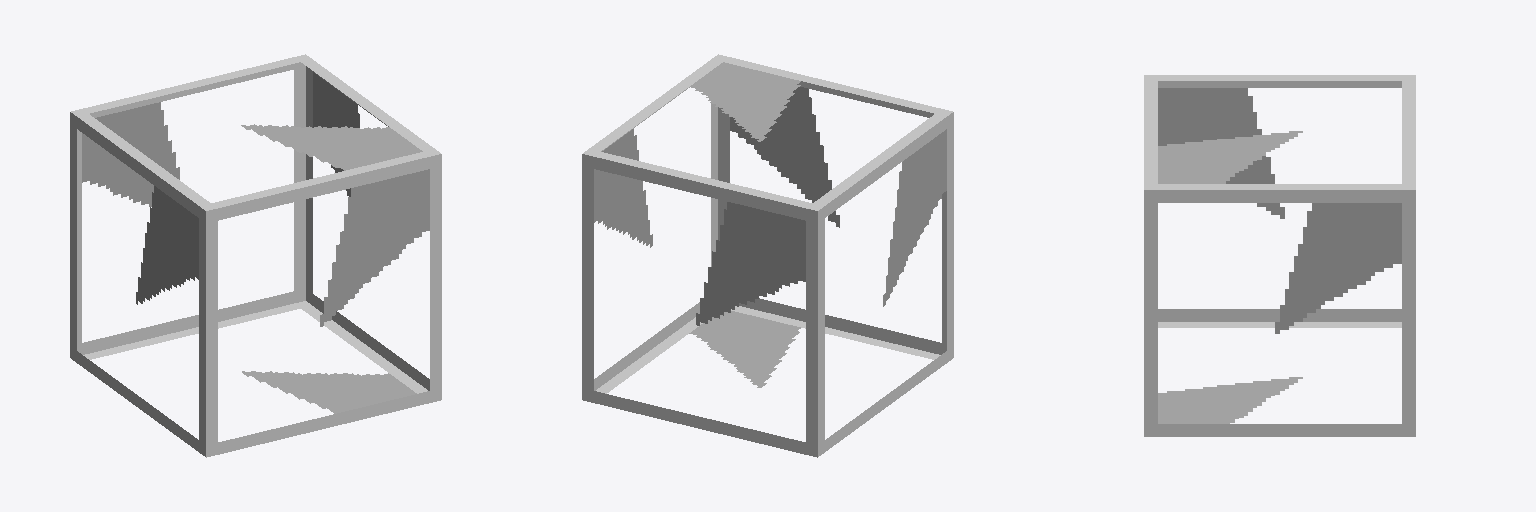
The picture shows the model from 3 angles: view 1: azimuth 30°, elevation 25°; view 2: azimuth 150°, elevation 25°; view 3: azimuth 270°, elevation 25°; orthographic projection.
Parts seen in each view (by area): view 1: Cube; view 2: Cube; view 3: Cube.
Part boxes in pixels (x1,y1,x2,y2): Cube: (70, 54, 441, 457); Cube: (582, 54, 953, 457); Cube: (1144, 75, 1415, 436).
Size of the model in its own units: 1.01 by 1.01 by 1.01.
Materials: 1 (1 with a texture image).